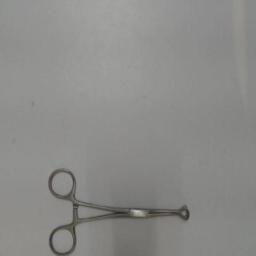Babcock Tissue Forceps: (46, 164, 190, 256)
